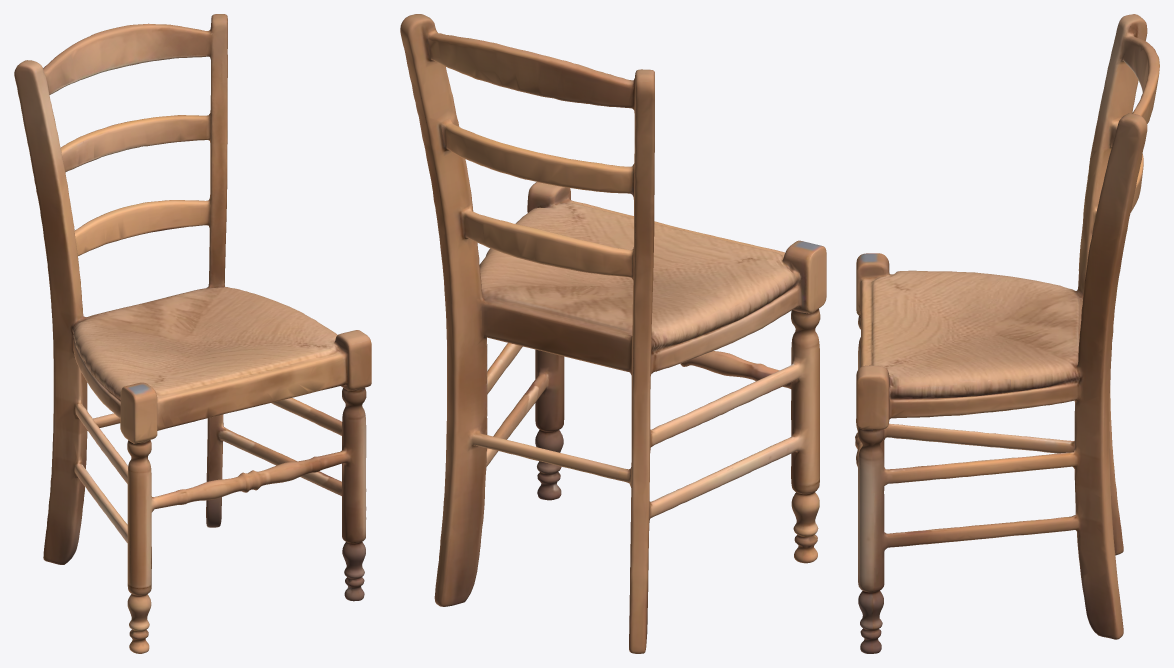
Rendered from cadeira.glb.
The picture shows the model from 3 angles, left to right: view 1: azimuth 30°, elevation 25°; view 2: azimuth 150°, elevation 25°; view 3: azimuth 270°, elevation 25°; orthographic projection. The views are drawn at different scales.
Visible parts, largest first — view 1: model; view 2: model; view 3: model.
Part boxes in pixels (x1,y1,x2,y2): model: (14, 14, 371, 653); model: (400, 14, 826, 653); model: (855, 14, 1159, 653).
Bounding box in the file's own units: 0.9515 × 1.91 × 0.9925.
Materials: 1 (1 with a texture image).
